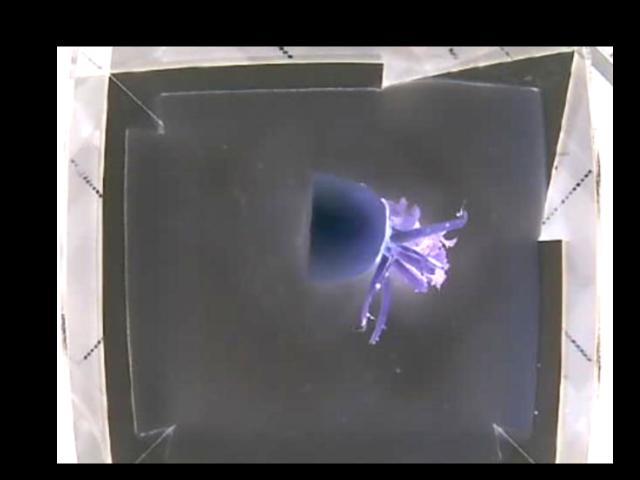Mooli: (304, 175, 459, 307)
